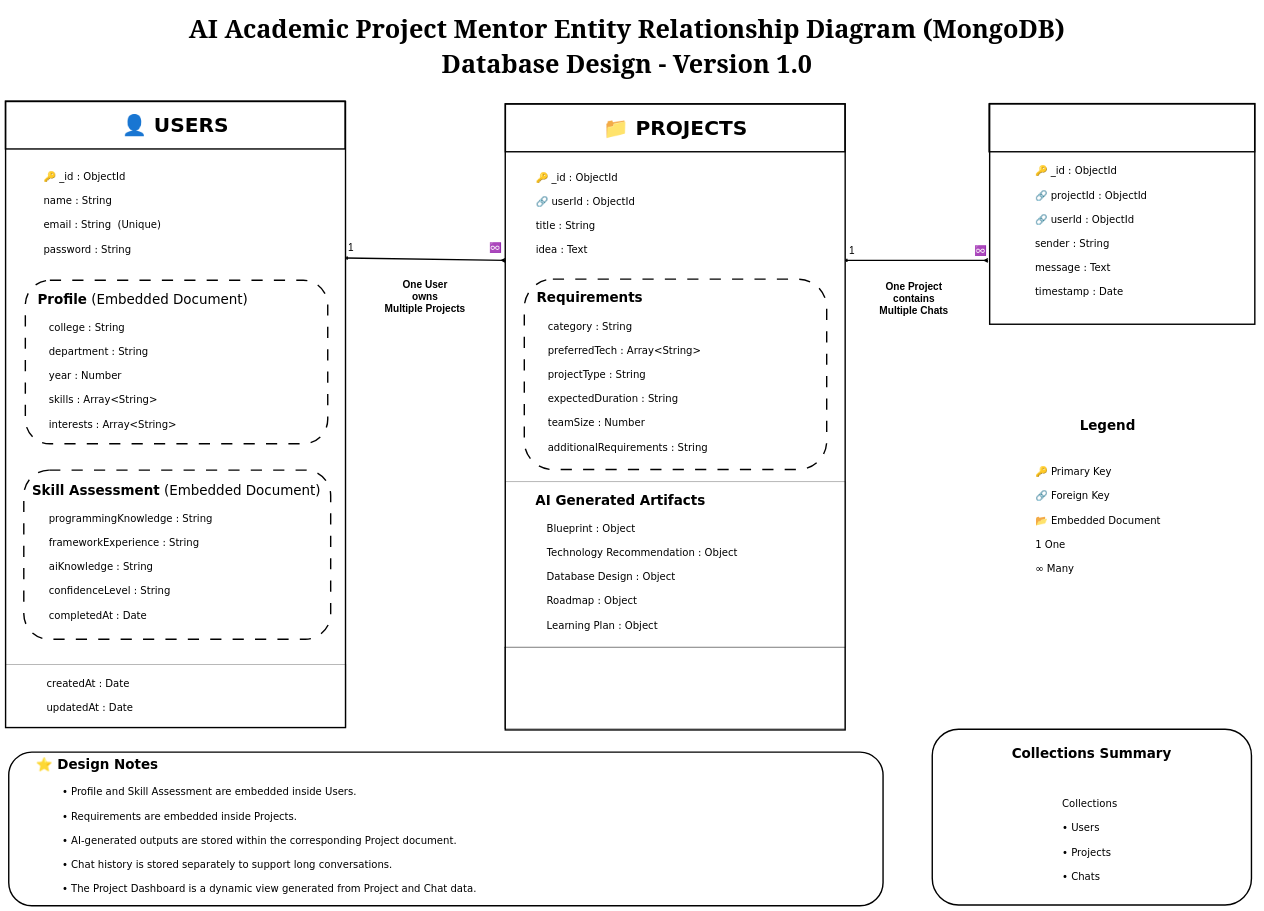
The diagram is 1264 pixels wide and 911 high, and some of its shapes have lost their labels. Each missing label, with the box of its shape:
status : String createdAt : Date updatedAt : Date: (504, 647, 845, 729)
💬 CHATS: (988, 103, 1255, 152)
